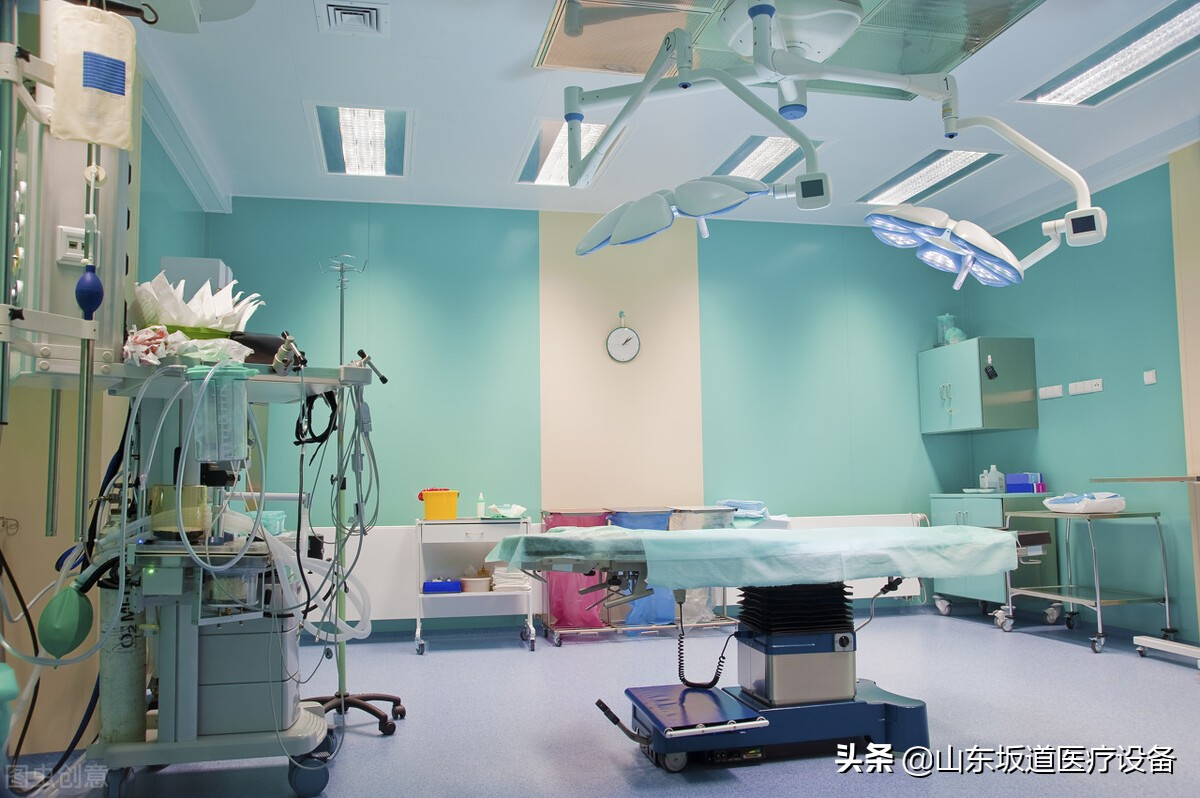breathing_tube: (307, 561, 377, 648)
cabinet: (911, 328, 1038, 426)
dispenser: (476, 491, 489, 518)
drawer: (197, 618, 302, 736)
handle: (944, 385, 954, 400), (938, 383, 945, 398)
iv_pole: (35, 1, 158, 534), (316, 241, 407, 757)
medical_drawer: (924, 487, 1055, 627)
operating_bed: (524, 515, 1017, 768)
surgical_light: (572, 172, 773, 287), (861, 203, 1028, 290)
table: (1002, 508, 1178, 654), (415, 514, 540, 660)
ventilator: (96, 329, 342, 798)
waste_bin: (543, 510, 613, 636), (608, 505, 672, 639), (676, 507, 736, 640)
